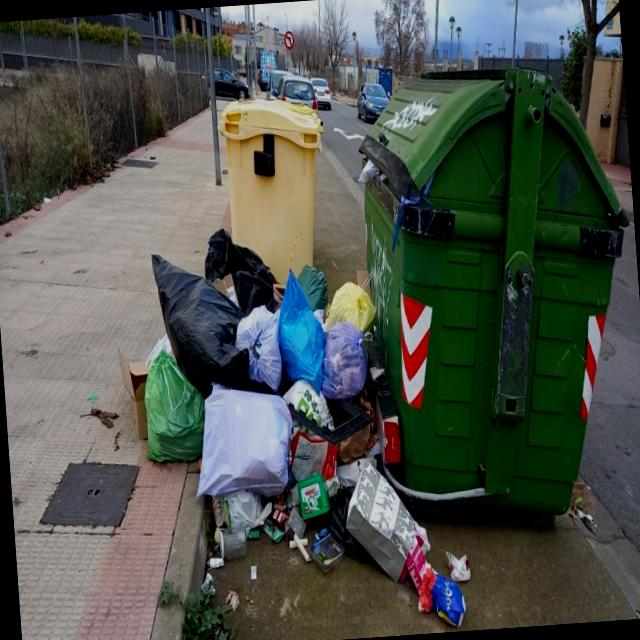garbage: (110, 228, 446, 600)
